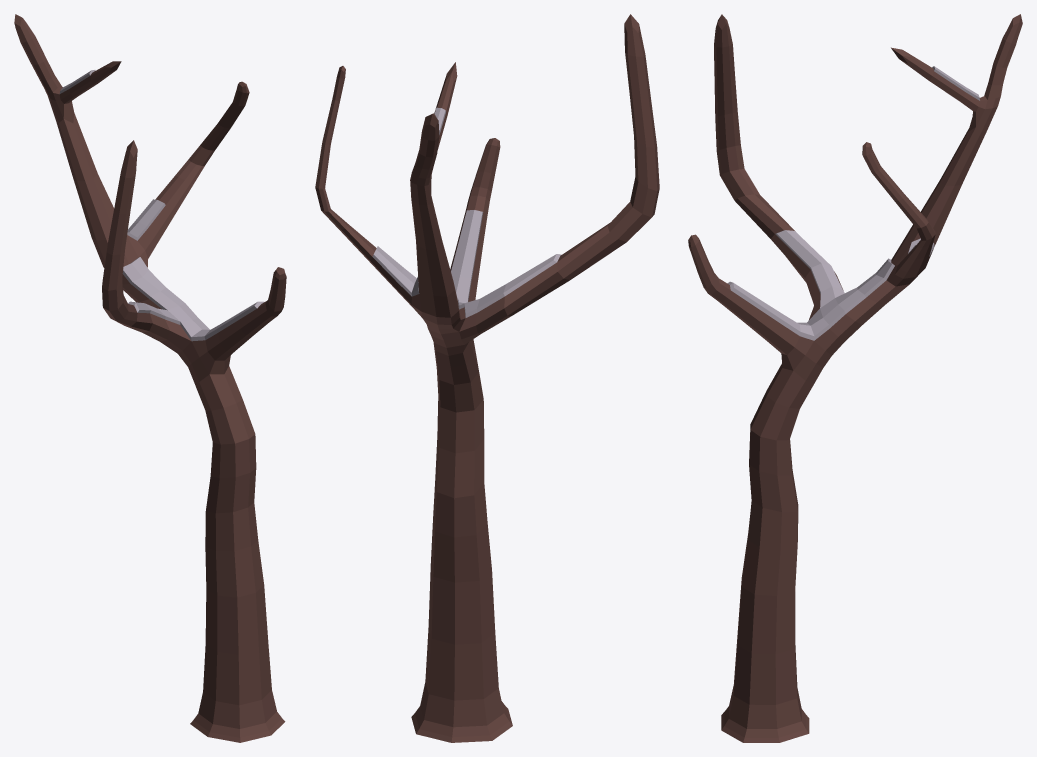
The model's file is CommonTree_Dead_Snow_4.gltf.
3 renders of one model, left to right at view 1: azimuth 30°, elevation 25°; view 2: azimuth 150°, elevation 25°; view 3: azimuth 270°, elevation 25°, orthographic. The views are drawn at different scales.
Parts seen in each view (by area): view 1: CommonTree_Dead_Snow_4; view 2: CommonTree_Dead_Snow_4; view 3: CommonTree_Dead_Snow_4.
Part boxes in pixels (x1,y1,x2,y2): CommonTree_Dead_Snow_4: [14, 14, 286, 742]; CommonTree_Dead_Snow_4: [315, 14, 659, 742]; CommonTree_Dead_Snow_4: [688, 14, 1022, 742].
Bounding box in the file's own units: 0.8161 × 2.37 × 1.08.
